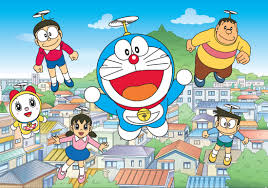doraemon: (83, 31, 194, 142)
